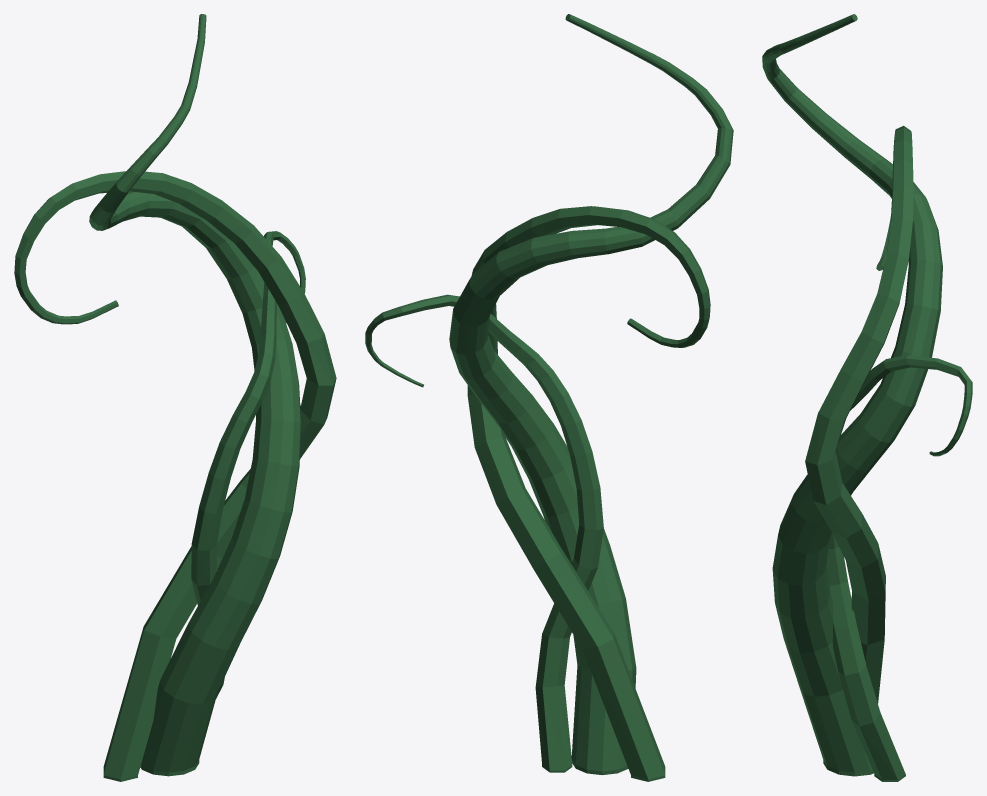
Rendered from Vine2.fbx.
3 renders of one model, left to right at view 1: azimuth 30°, elevation 25°; view 2: azimuth 150°, elevation 25°; view 3: azimuth 270°, elevation 25°, orthographic. The views are drawn at different scales.
Visible parts, largest first — view 1: Vine2; view 2: Vine2; view 3: Vine2.
Boxes of the visible parts, x1,y1,x2,y2 form: Vine2: (14,14,336,781); Vine2: (365,14,733,781); Vine2: (762,14,972,781).
Bounding box in the file's own units: 55.01 × 123 × 30.64.
